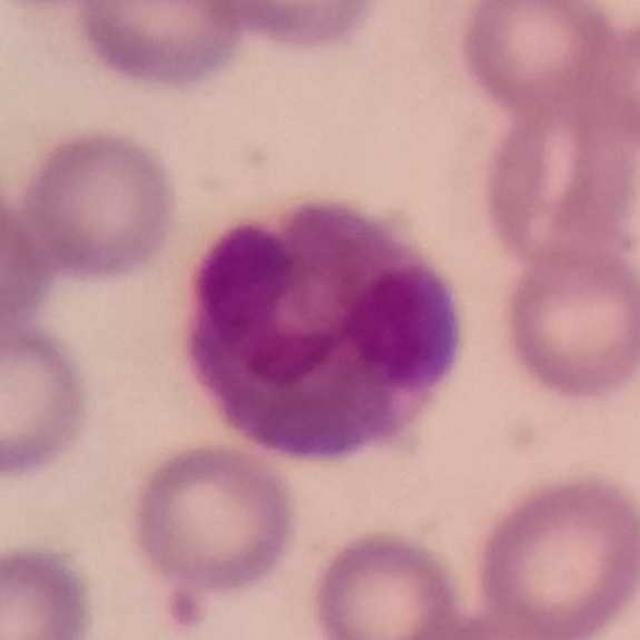Eosinophil: (178, 193, 468, 478)
Platelets: (156, 587, 211, 629)
RBC: (475, 76, 640, 272), (468, 465, 639, 640), (120, 437, 304, 598), (8, 120, 185, 286), (493, 235, 640, 407), (450, 0, 634, 120), (302, 523, 474, 640), (68, 0, 253, 95), (0, 310, 99, 486), (186, 0, 391, 55), (0, 535, 102, 639), (574, 3, 640, 155), (0, 169, 50, 360)
